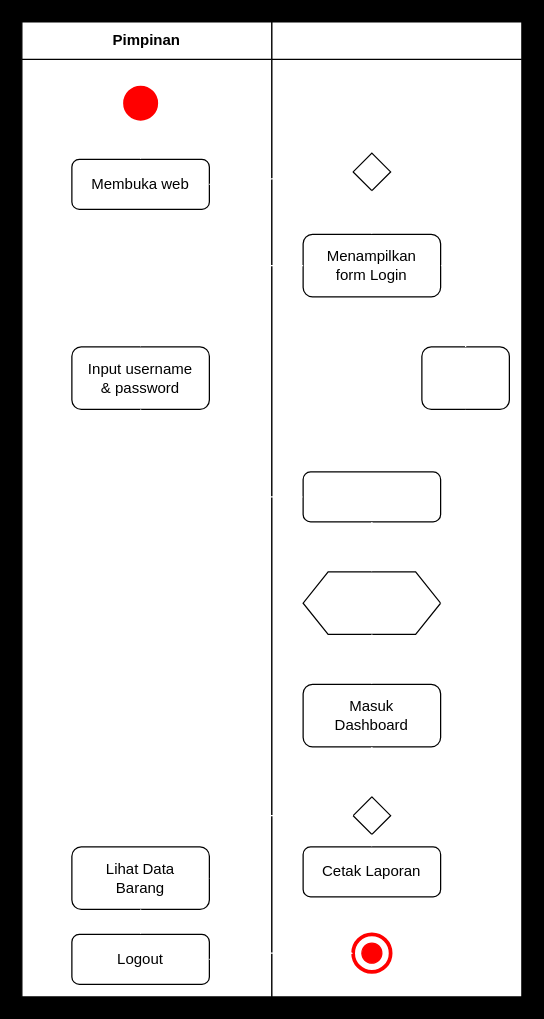
This 544x1019 diagram has some shape labels left out. The box of each missing label's shape, as (x1, y1, x2, y2) in pixels:
Data Valid?: (302, 571, 441, 634)
Sistem: (271, 21, 522, 997)
Tampilkan Pesan Error: (421, 346, 509, 409)
validasi data: (302, 471, 441, 522)
